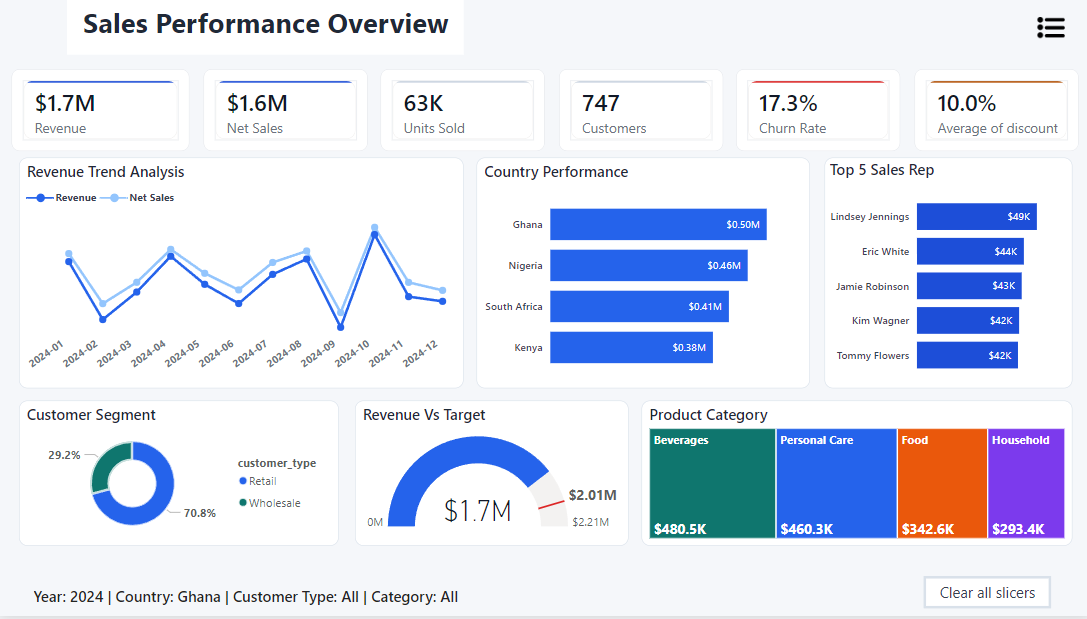

What the dashboard file says about the page in this screenshot:
{"tool":"powerbi","page":{"name":"Page 1","canvas":[1280,720],"ordinal":0},"visuals":[{"type":"actionButton","box":[1083.2,672.8,149.5,38.2],"z":0},{"type":"textbox","box":[80,0,464,64],"z":1000},{"type":"cardVisual","fields":{"Data":["Measure.Revenue"]},"box":[16,80,208,96],"z":2000},{"type":"cardVisual","fields":{"Data":["Measure.Net Sales"]},"box":[240,80,192,96],"z":3000},{"type":"cardVisual","fields":{"Data":["Measure.Churn Rate"]},"box":[864,80,192,96],"z":4000},{"type":"cardVisual","fields":{"Data":["Measure.Customers"]},"box":[656,80,192,96],"z":5000},{"type":"cardVisual","fields":{"Data":["Measure.Units Sold"]},"box":[448,80,192,96],"z":6000},{"type":"cardVisual","fields":{"Data":["Avg(sales_transactions.discount_pct)"]},"box":[1072,80,192,96],"z":7000},{"type":"lineChart","title":"Revenue Trend Analysis","fields":{"Y":["Measure.Revenue"],"Category":["DateTable.Year-Month"],"Y2":["Measure.Net Sales"]},"box":[24,184,520,270],"z":8000},{"type":"clusteredBarChart","title":"Country Performance","fields":{"Category":["distributors.country"],"Y":["Measure.Revenue"]},"box":[560,184,390,270],"z":9000},{"type":"treemap","title":"Product Category","fields":{"Group":["products.category"],"Values":["Measure.Net Sales"]},"box":[752.4,469.2,504.2,170.2],"z":10000},{"type":"donutChart","title":"Customer Segment","fields":{"Category":["customers.customer_type"],"Y":["Measure.Net Sales"]},"box":[23.9,469.2,373.8,170.2],"z":11000},{"type":"clusteredBarChart","title":"Top 5 Sales Rep","fields":{"Category":["sales_reps.rep_name"],"Y":["Measure.Net Sales"]},"box":[966,184,290,270],"z":12000},{"type":"image","box":[1207.3,15.9,49.3,31.8],"z":13000},{"type":"cardVisual","fields":{"Data":["Measure.Selected Filters"]},"box":[24,672,560,48],"z":15000},{"type":"gauge","title":"Revenue Vs Target","fields":{"Y":["Measure.Revenue"],"TargetValue":["Measure.Revenue Target"],"MinValue":["Measure.Gauge min"],"MaxValue":["Measure.Gauge Max"]},"box":[416.7,469.2,319.7,170.2],"z":16000}]}

Visuals, with their boxes in screenshot pixels (x1, y1, x2, y2), scaled from the page's 1280x720 canvas onto the 1087x619 screenshot:
actionButton: 920 578 1047 611
textbox: 68 0 462 55
cardVisual - Measure.Revenue: 14 69 190 151
cardVisual - Measure.Net Sales: 204 69 367 151
cardVisual - Measure.Churn Rate: 734 69 897 151
cardVisual - Measure.Customers: 557 69 720 151
cardVisual - Measure.Units Sold: 380 69 544 151
cardVisual - Avg(sales_transactions.discount_pct): 910 69 1073 151
"Revenue Trend Analysis" lineChart: 20 158 462 390
"Country Performance" clusteredBarChart: 476 158 807 390
"Product Category" treemap: 639 403 1067 550
"Customer Segment" donutChart: 20 403 338 550
"Top 5 Sales Rep" clusteredBarChart: 820 158 1067 390
image: 1025 14 1067 41
cardVisual - Measure.Selected Filters: 20 578 496 618
"Revenue Vs Target" gauge: 354 403 625 550
